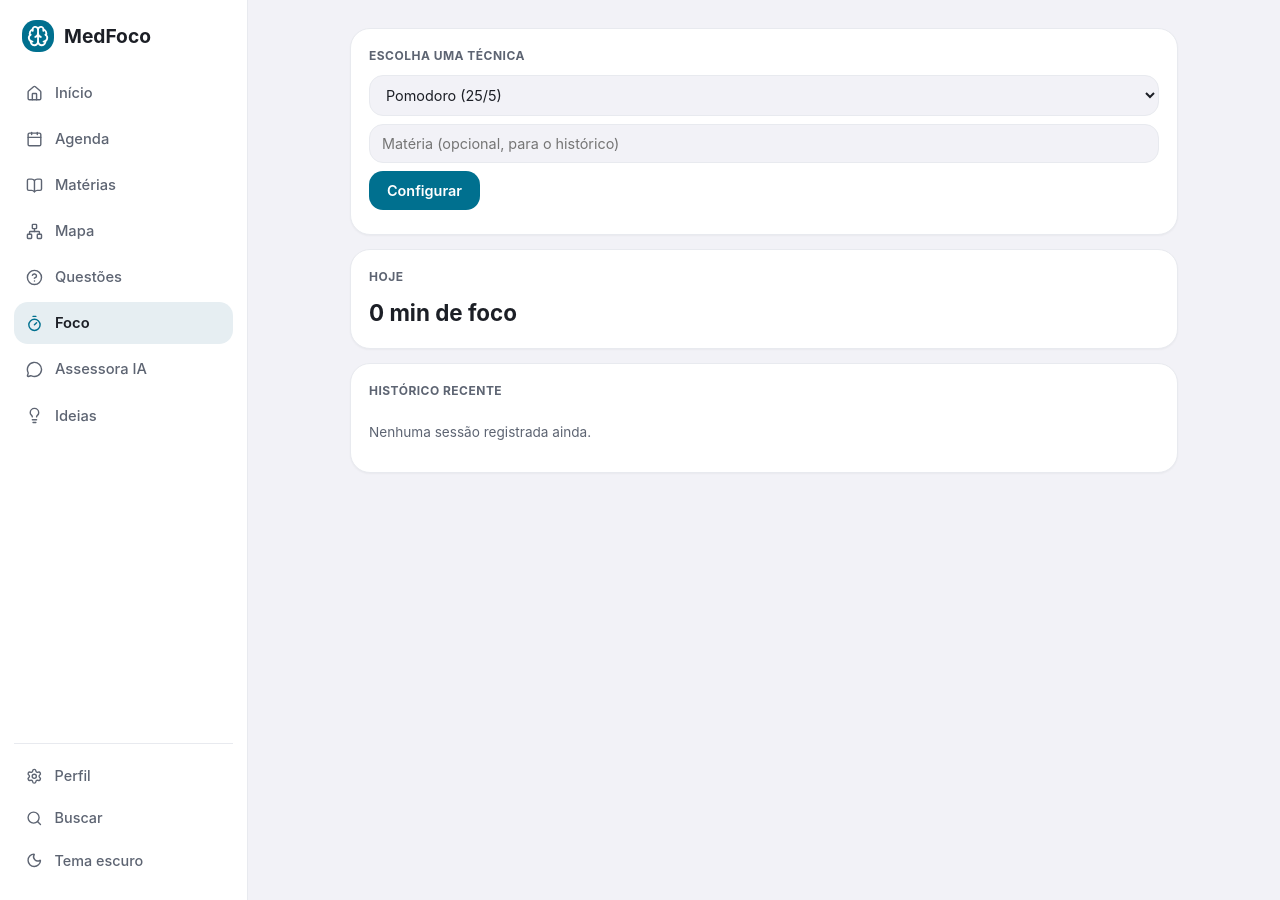
it: Foco — timer › Encerrar no meio do foco registra os minutos já focados (sem pausas) e volta à tela inicial
Type "Neuro" into the field named "Matéria (opcional)" at (764, 144), box [369,124,1159,163]
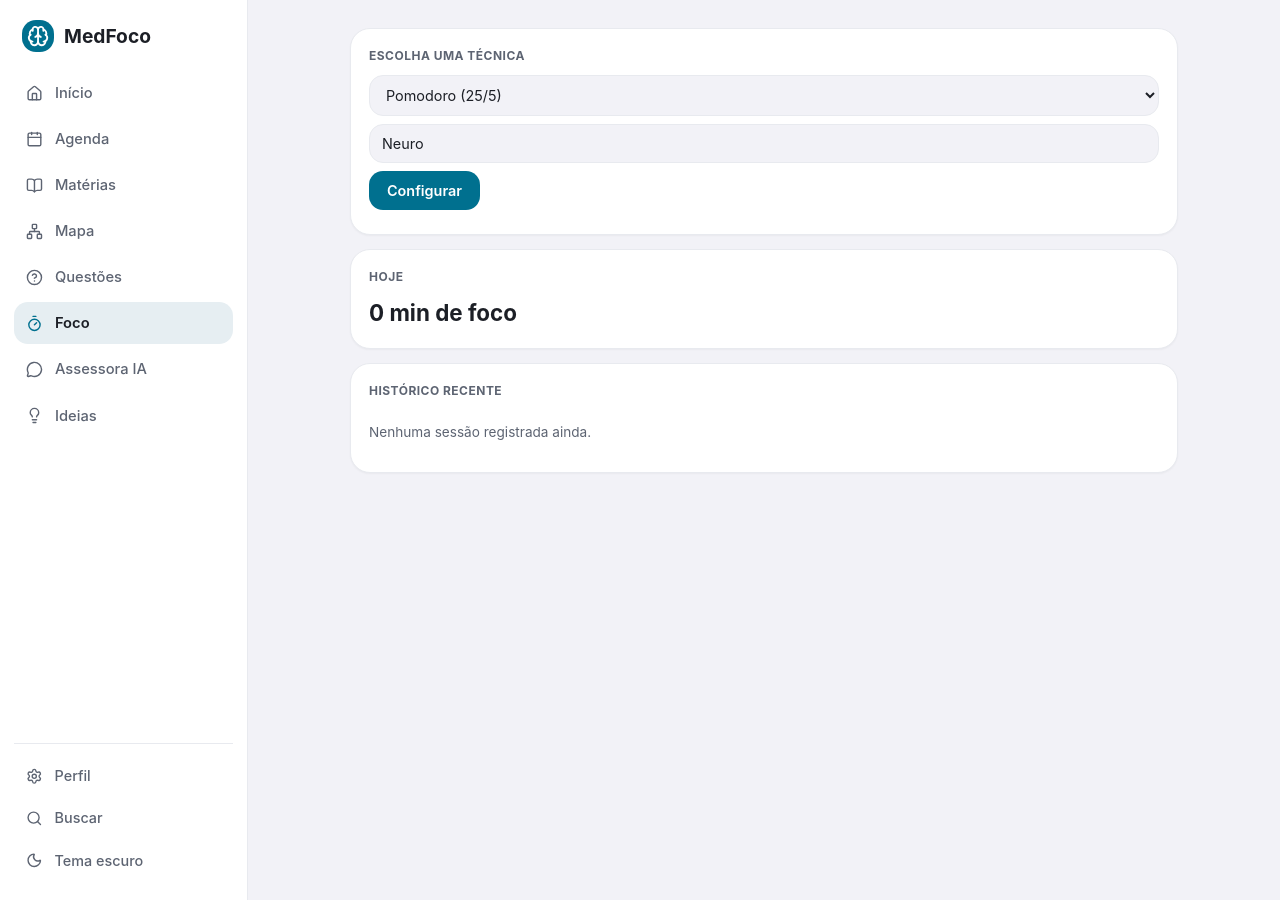
Click the button "Configurar" at (424, 190), box [369,171,480,210]
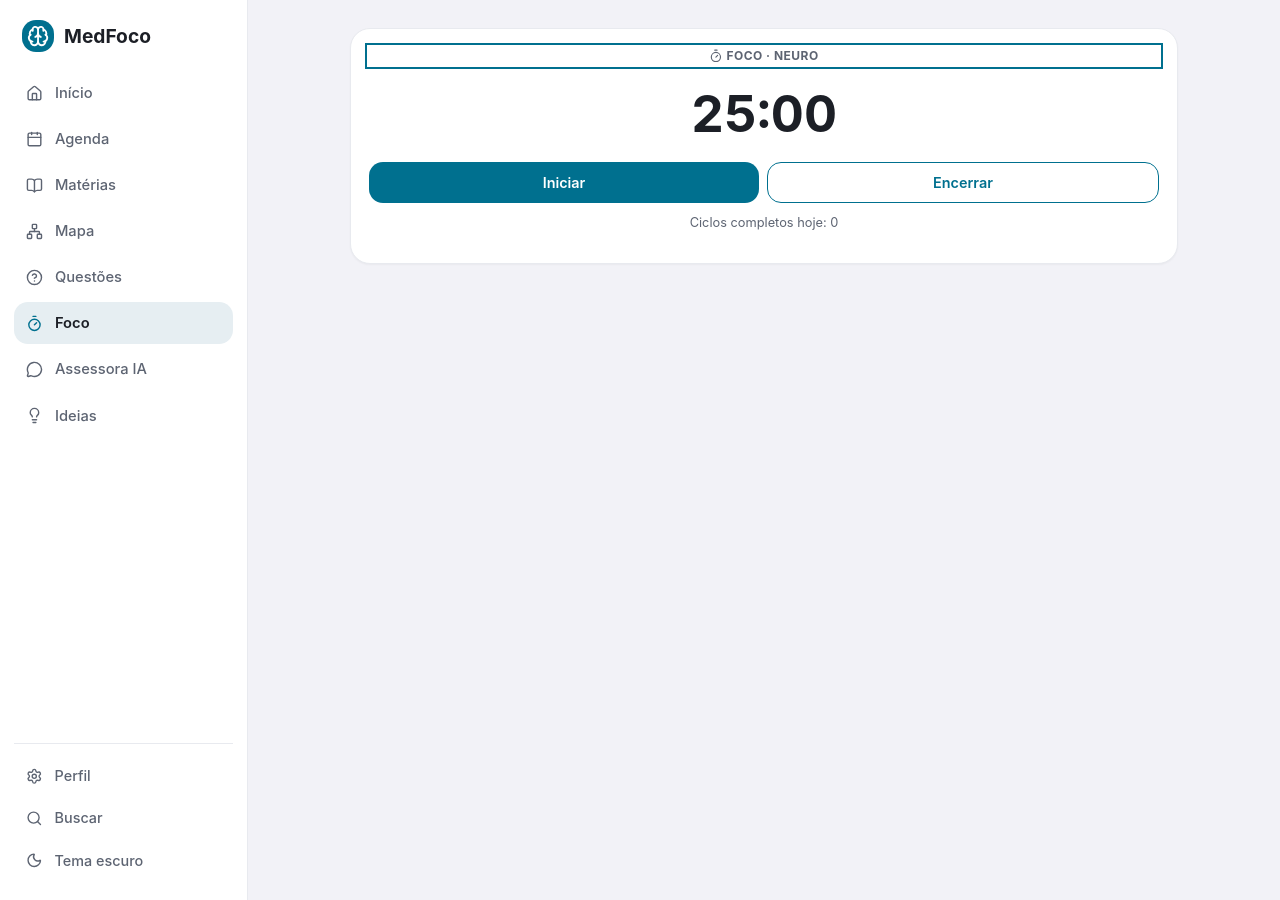
Click the button "Iniciar" at (564, 182), box [369,162,759,203]
Wait 630000 ms
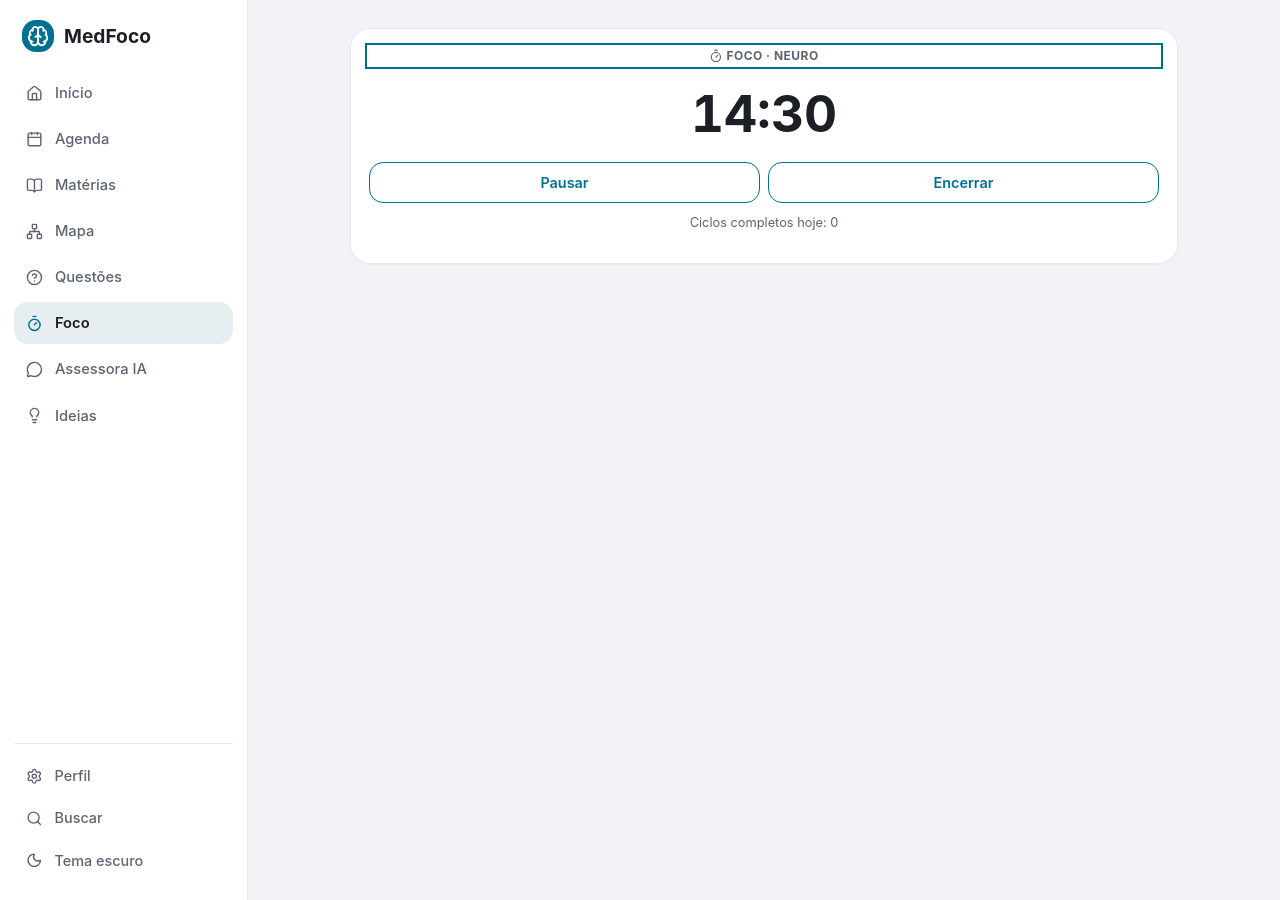
Click the button "Pausar" at (564, 182), box [369,162,760,203]
Wait 2400000 ms
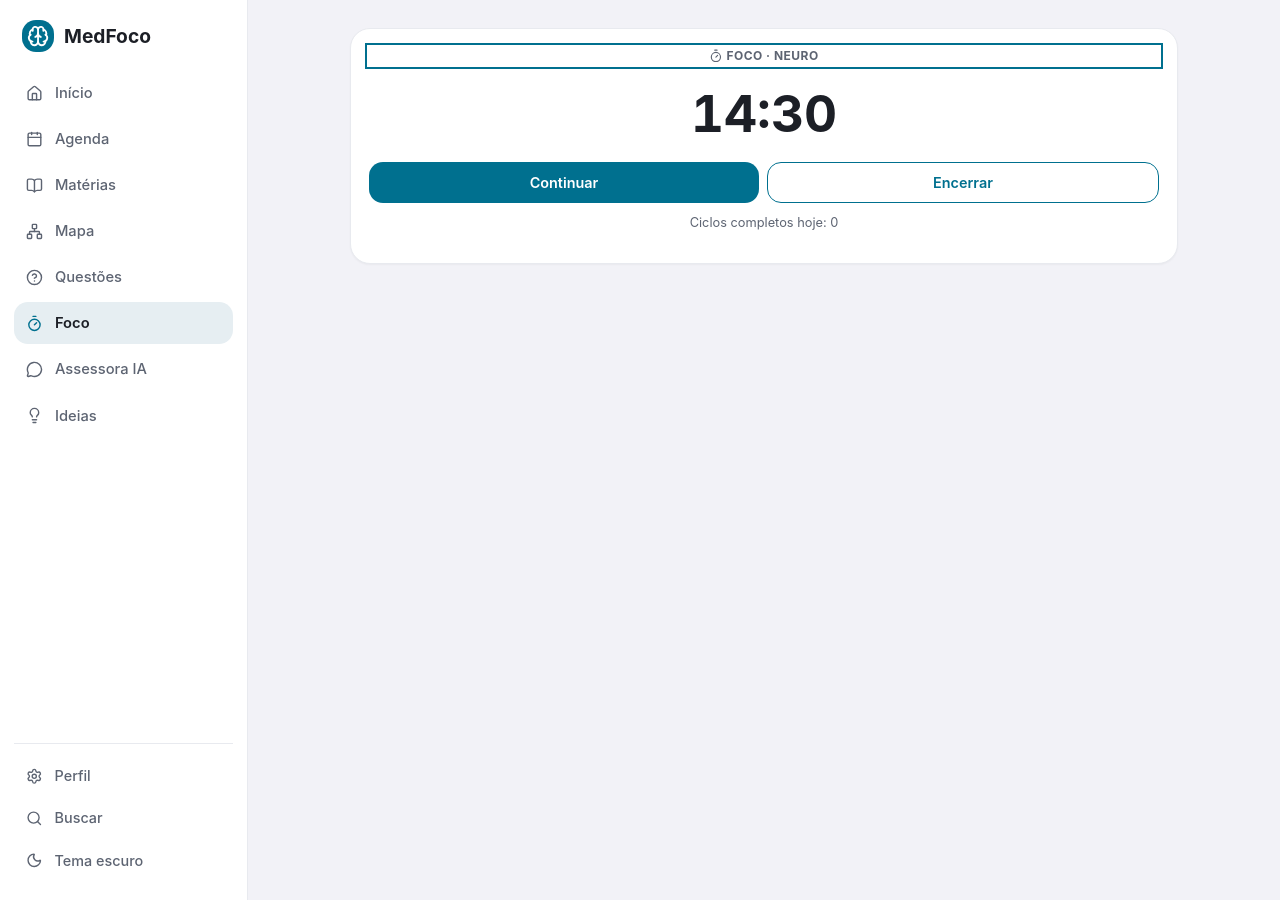
Click the button "Encerrar" at (963, 182), box [767,162,1159,203]
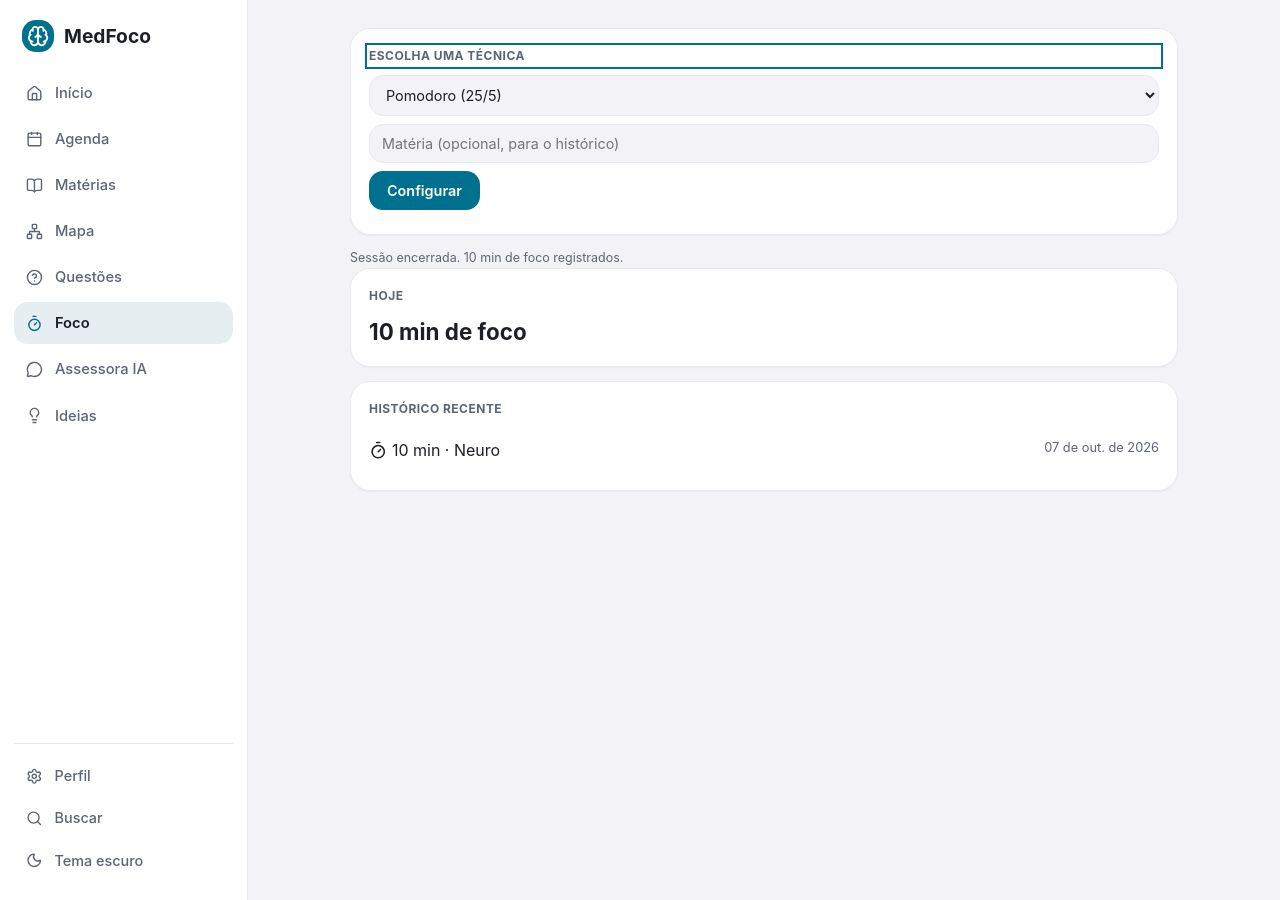
Now the message reads "Sessão encerrada. 10 min de foco registrados.", box [350,250,623,265]
Now the text "10 min de foco" is shown, box [369,318,527,345]
